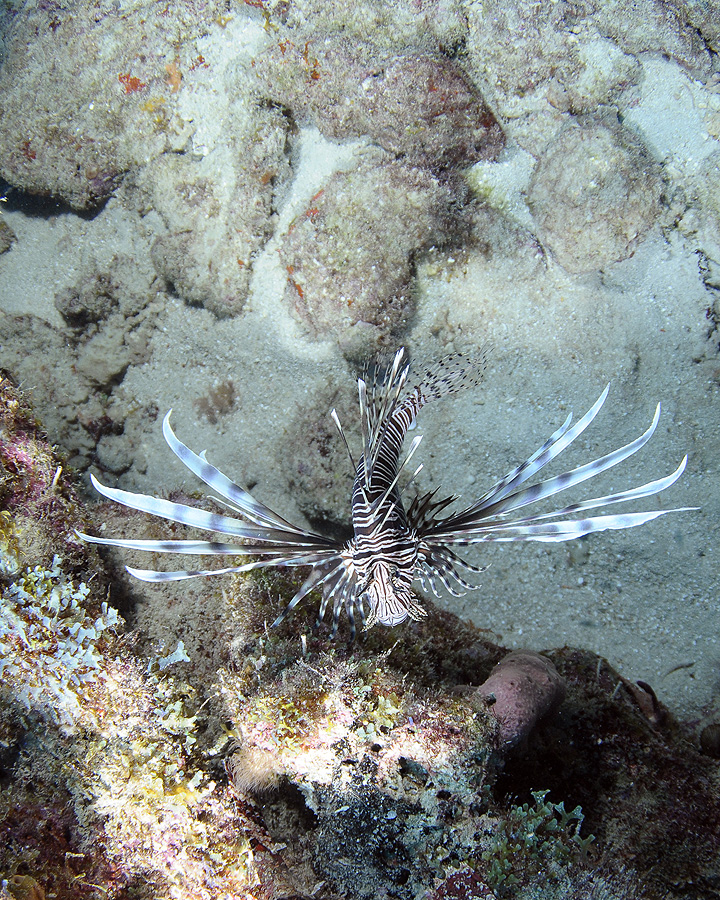Pterois_volitans: (108, 384, 652, 625)
